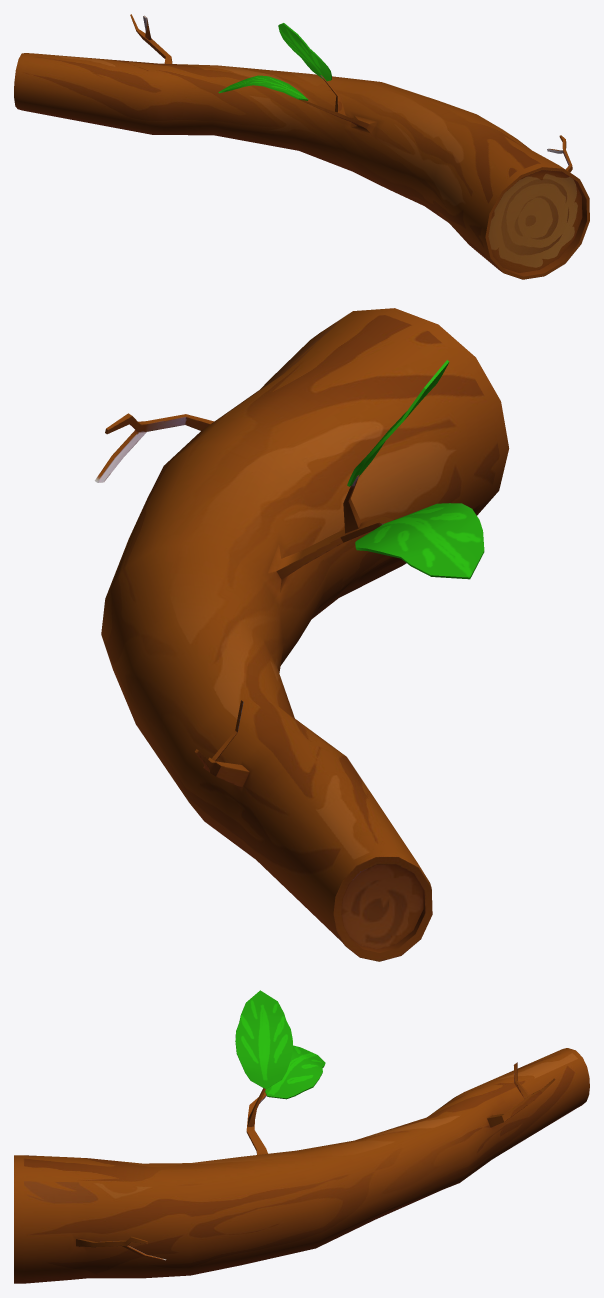
File: tronco.fbx
The picture shows the model from 3 angles, top to bottom: view 1: azimuth 30°, elevation 25°; view 2: azimuth 150°, elevation 25°; view 3: azimuth 270°, elevation 25°; orthographic projection. The views are drawn at different scales.
Visible parts, largest first — view 1: tronco, hoja1, hoja; view 2: tronco, hoja, hoja1; view 3: tronco, hoja1, hoja.
Part boxes in pixels (x1,y1,x2,y2): tronco: (14,14,589,279); hoja1: (278,23,331,81); hoja: (218,75,308,100); tronco: (95,308,509,961); hoja: (355,503,484,579); hoja1: (347,360,449,486); tronco: (14,1048,589,1283); hoja1: (235,990,292,1088); hoja: (265,1045,325,1099).
Size of the model in its own units: 0.7582 by 0.4151 by 1.
